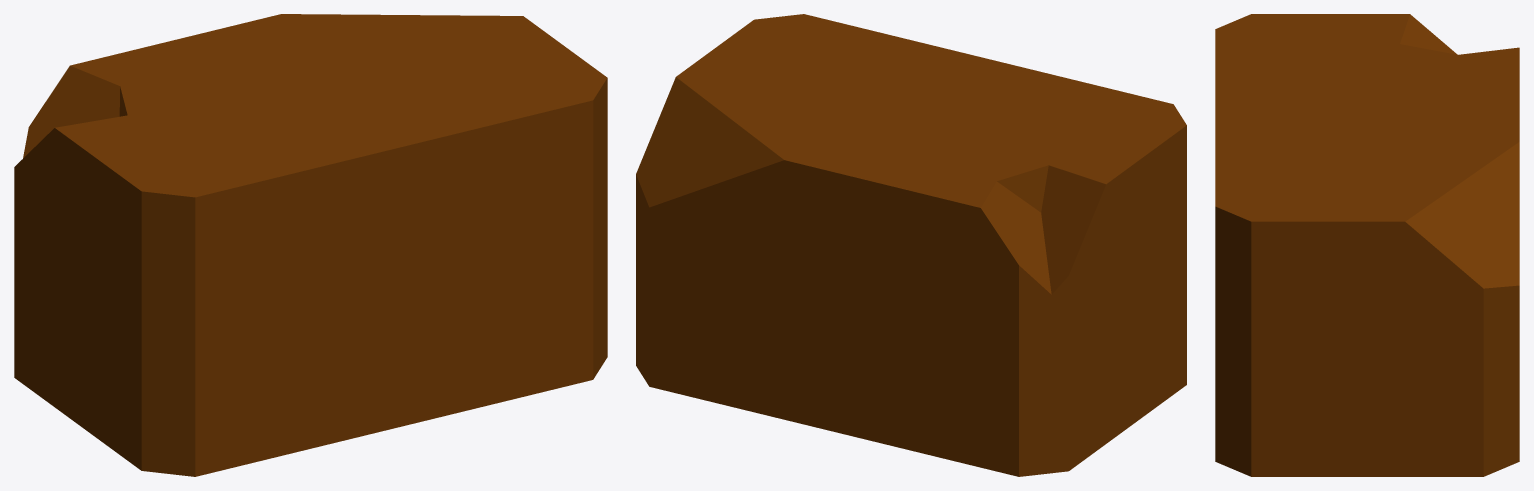
File: Pedra01.fbx
3 renders of one model, left to right at view 1: azimuth 30°, elevation 25°; view 2: azimuth 150°, elevation 25°; view 3: azimuth 270°, elevation 25°, orthographic. The views are drawn at different scales.
Parts seen in each view (by area): view 1: Cube.130; view 2: Cube.130; view 3: Cube.130.
Part boxes in pixels (<box>): Cube.130: <box>14,14,607,476</box>; Cube.130: <box>636,14,1186,476</box>; Cube.130: <box>1215,14,1519,476</box>.
Bounding box in the file's own units: 200 × 115 × 124.
